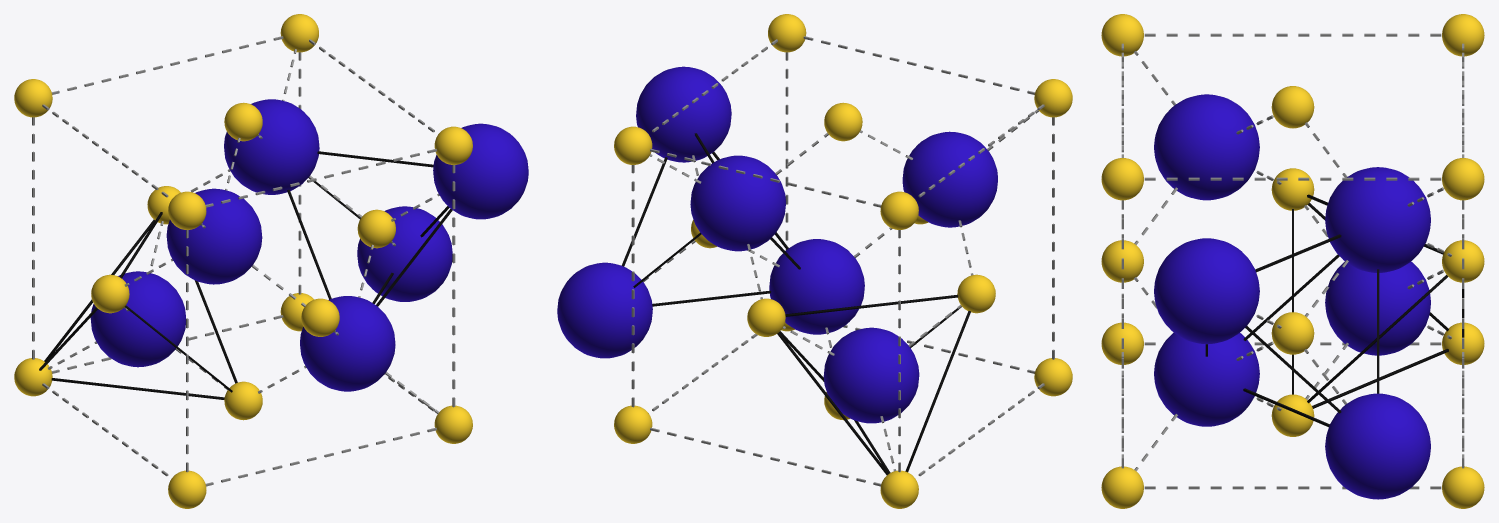
Rendered from zns.obj.
3 views of the same model, side by side, from view 1: azimuth 30°, elevation 25°; view 2: azimuth 150°, elevation 25°; view 3: azimuth 270°, elevation 25° (orthographic). The views are drawn at different scales.
Parts seen in each view (by area): view 1: zns, Shape004, Object001; view 2: zns, Shape004, Object001; view 3: zns, Shape004, Object001.
Part boxes in pixels (box(x1,y1,x2,y2)): zns: box(14, 14, 472, 508); Shape004: box(287, 123, 528, 306); Object001: box(39, 212, 237, 399); zns: box(614, 14, 1072, 508); Shape004: box(557, 66, 800, 358); Object001: box(777, 294, 970, 475); zns: box(1101, 14, 1484, 508); Shape004: box(1154, 234, 1430, 499); Object001: box(1292, 194, 1464, 408).
Size of the model in its own units: 108 by 83.07 by 83.07.
